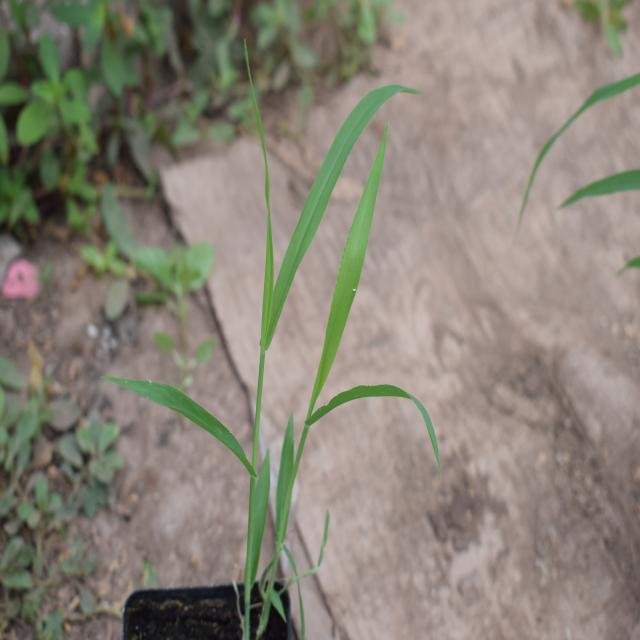crabgrass: (182, 54, 410, 568)
